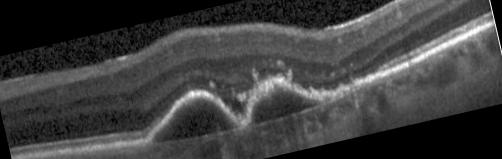neuroepithelium_detachment: (221, 95, 245, 113)
subretinal_fluid: (153, 95, 236, 142), (250, 84, 331, 125)
subretinal_hyperreflective_material: (237, 60, 292, 102)
